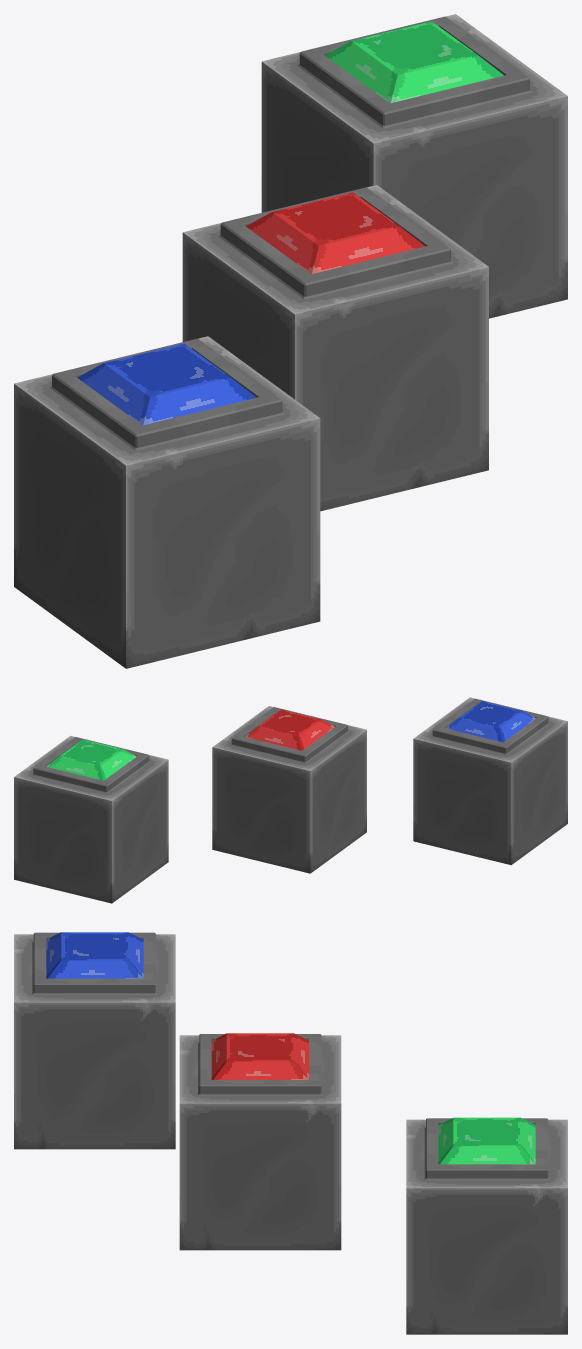
The model's file is PushingStone.fbx.
3 renders of one model, top to bottom at view 1: azimuth 30°, elevation 25°; view 2: azimuth 150°, elevation 25°; view 3: azimuth 270°, elevation 25°, orthographic. The views are drawn at different scales.
Parts seen in each view (by area): view 1: Blue, Red, Green; view 2: Blue, Red, Green; view 3: Red, Blue, Green.
Part boxes in pixels (x1,y1,x2,y2): Blue: (14, 336, 320, 668); Red: (182, 185, 488, 511); Green: (261, 14, 567, 318); Blue: (413, 697, 567, 865); Red: (212, 706, 366, 873); Green: (14, 735, 168, 903); Red: (179, 1033, 341, 1250); Blue: (14, 932, 175, 1149); Green: (406, 1117, 567, 1334).
Bounding box in the file's own units: 735 × 234 × 685.
6 materials, 6 textured.
